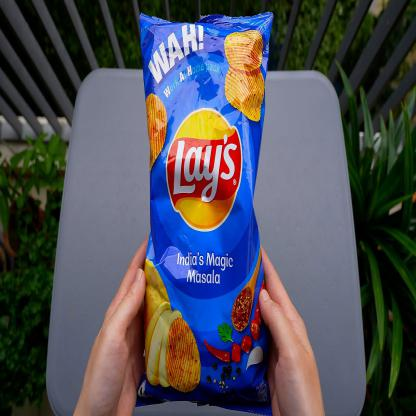potatochip: (131, 7, 278, 415)
